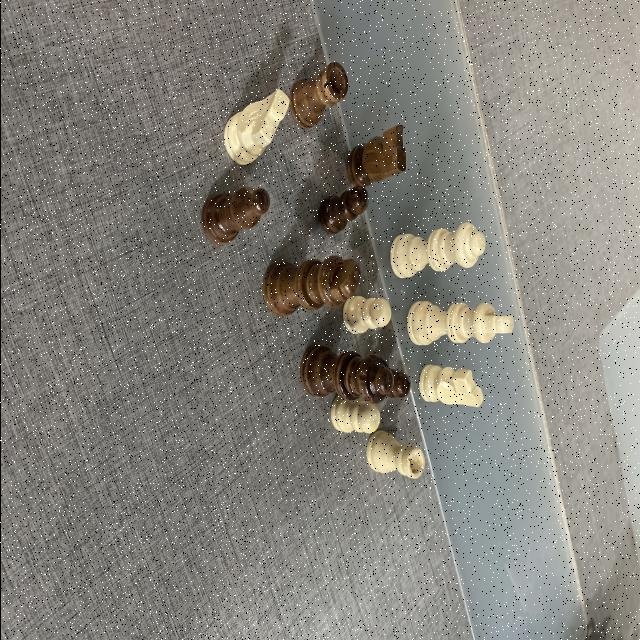Black-Bishop: (202, 188, 270, 246)
Black-King: (264, 258, 360, 314)
Black-Knight: (349, 122, 406, 190)
Black-Pawn: (321, 190, 367, 233), (382, 364, 410, 400)
Black-Queen: (301, 348, 394, 402)
Black-Rook: (288, 60, 347, 126)
White-King: (404, 302, 514, 342)
White-Knight: (222, 92, 290, 164), (420, 362, 482, 404)
White-Pawn: (328, 397, 381, 434), (342, 296, 390, 332)
White-Queen: (390, 222, 486, 280)
White-Rook: (364, 431, 424, 478)
